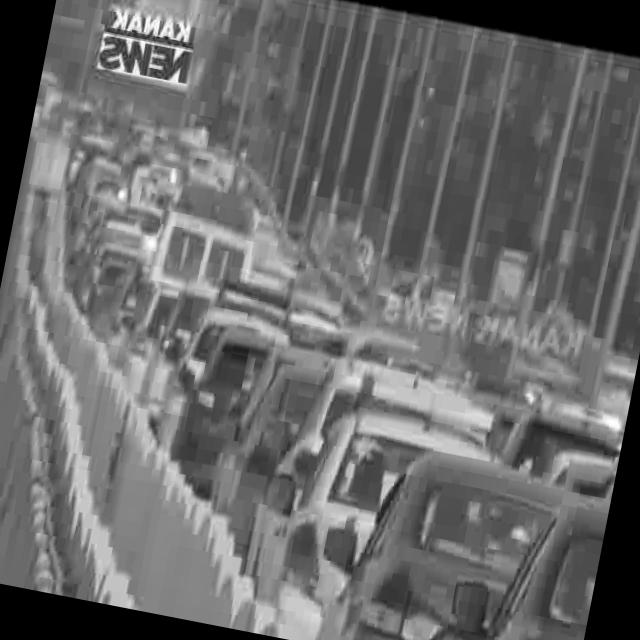ambulance: (159, 185, 272, 288)
